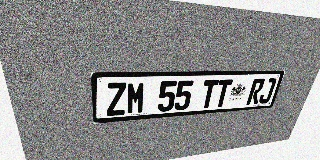5: (157, 81, 177, 112), (174, 80, 194, 111)
J: (258, 78, 277, 104)
M: (126, 82, 146, 115)
R: (246, 78, 266, 105)
T: (199, 80, 219, 109), (213, 79, 233, 107)
Z: (106, 82, 126, 116)
